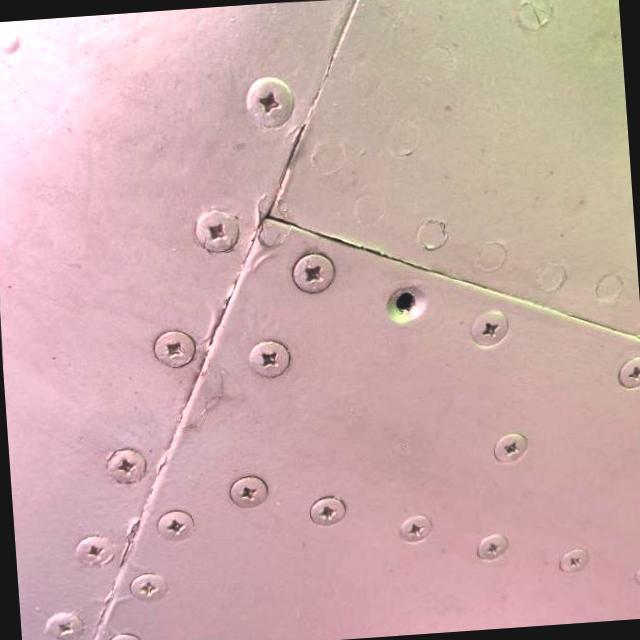Missing Fastener: (384, 282, 428, 324)
